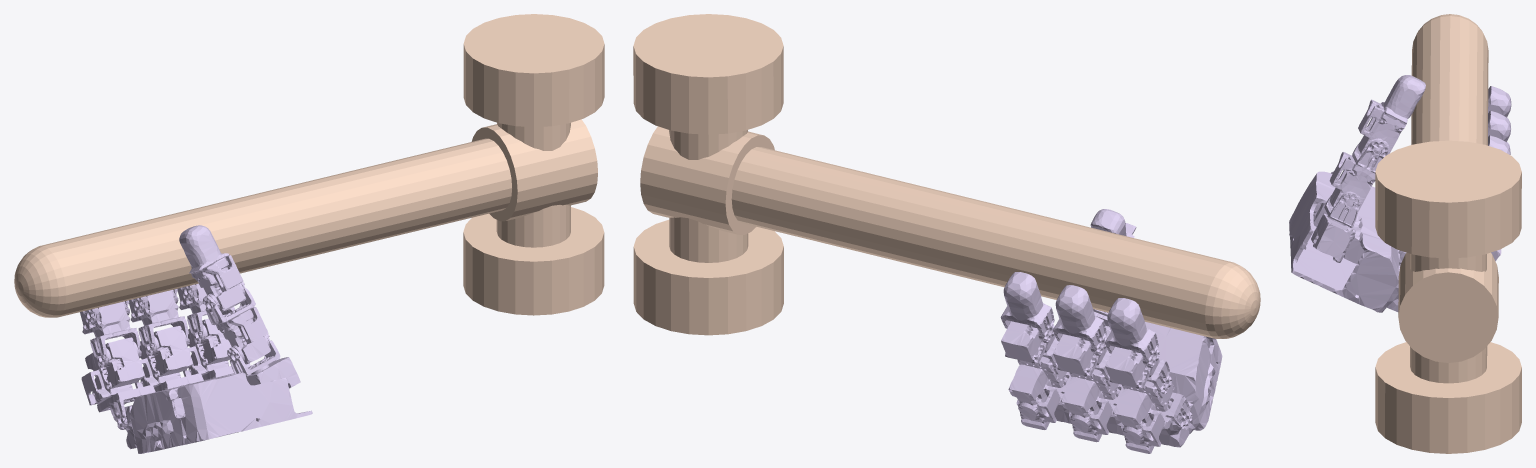
The model's file is 89376c69b8b1fc-closed.glb.
The picture shows the model from 3 angles, left to right: view 1: azimuth 30°, elevation 25°; view 2: azimuth 150°, elevation 25°; view 3: azimuth 270°, elevation 25°; orthographic projection. The views are drawn at different scales.
Visible parts, largest first — view 1: world, LEAP_hand; view 2: world, LEAP_hand; view 3: world, LEAP_hand.
Part boxes in pixels (x1,y1,x2,y2): world: (14, 14, 604, 317); LEAP_hand: (80, 225, 312, 453); world: (633, 14, 1260, 338); LEAP_hand: (1000, 209, 1222, 453); world: (1375, 14, 1521, 453); LEAP_hand: (1289, 75, 1511, 312).
Size of the model in its own units: 0.5371 by 0.2586 by 0.1812.
